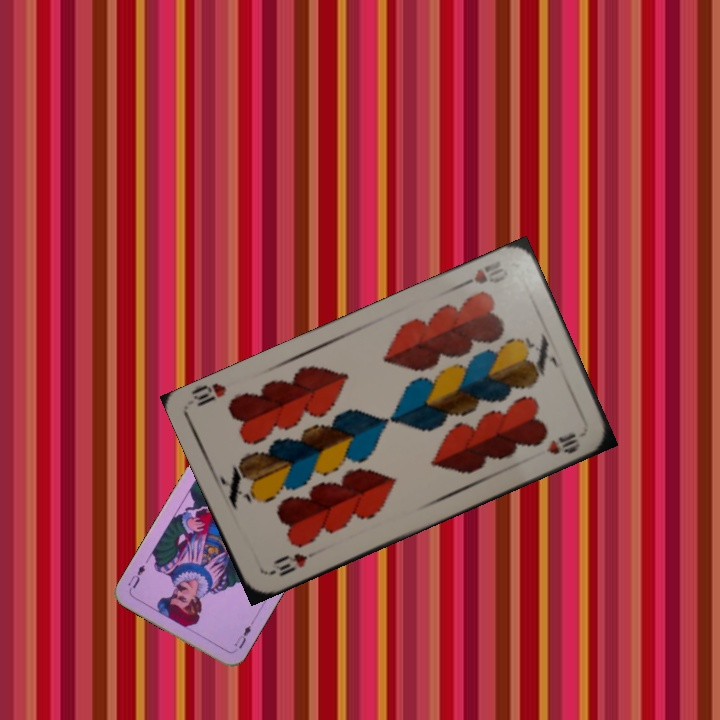EU: (230, 617, 256, 654)
H10: (454, 256, 511, 291), (265, 549, 310, 579)
